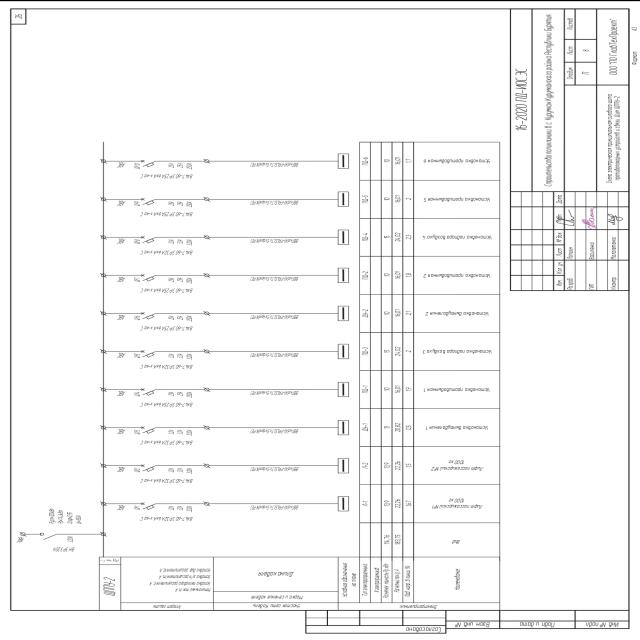-: (139, 276, 193, 292), (139, 391, 193, 407), (140, 200, 194, 216), (139, 352, 193, 368), (140, 238, 194, 254), (139, 314, 193, 330), (140, 504, 194, 520), (139, 428, 193, 444), (140, 162, 193, 178), (139, 467, 193, 482), (52, 534, 76, 552), (102, 574, 117, 596)
QF: (140, 310, 159, 320), (140, 348, 158, 358), (140, 195, 159, 204), (140, 234, 159, 243), (139, 386, 158, 395), (140, 500, 159, 509), (140, 157, 158, 166), (140, 424, 158, 433), (140, 462, 158, 471), (140, 272, 158, 280)
QS: (39, 530, 61, 540)
